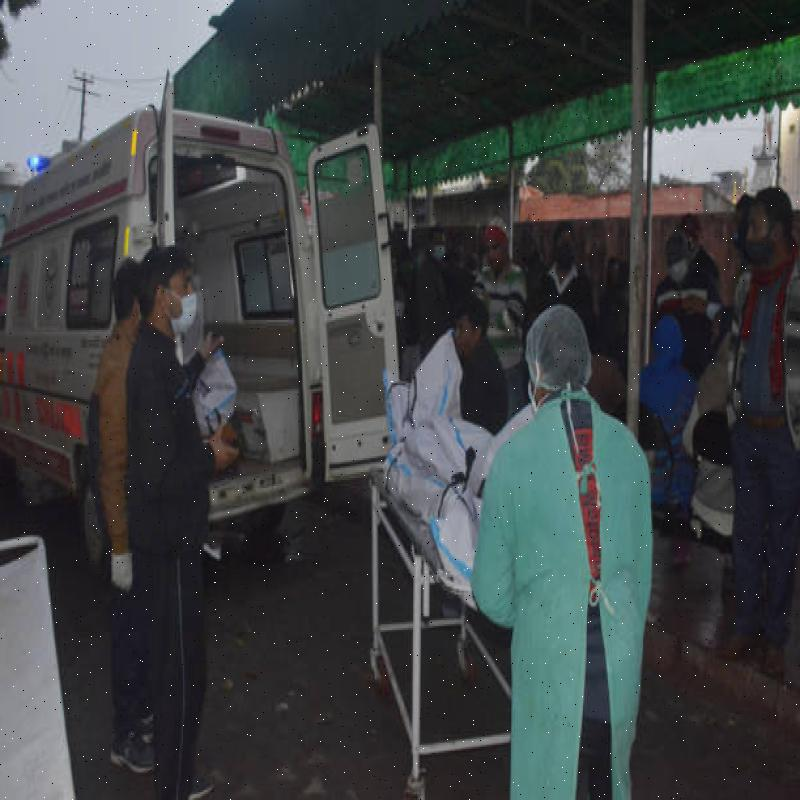ambulance: (0, 73, 426, 546)
